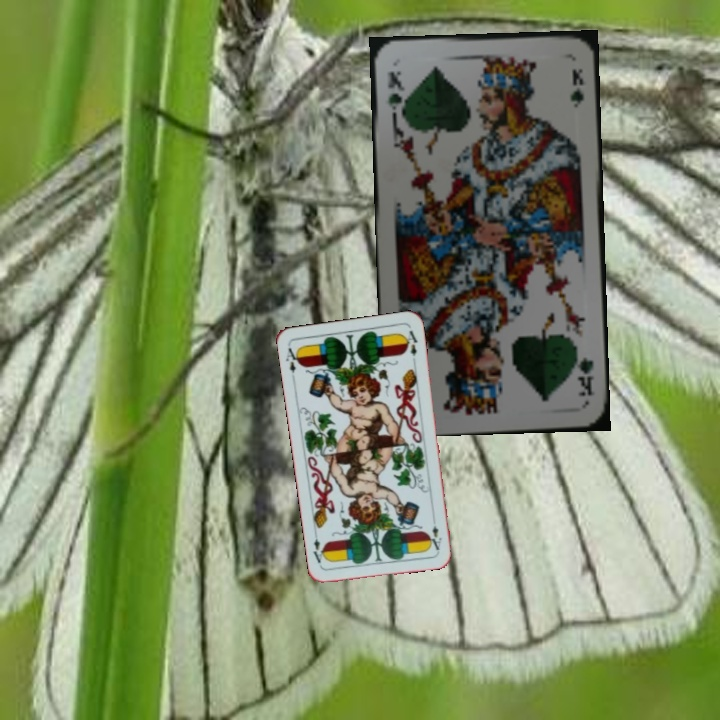EA: (282, 343, 303, 375), (428, 521, 444, 553)
GK: (572, 346, 596, 399), (384, 67, 405, 121)
